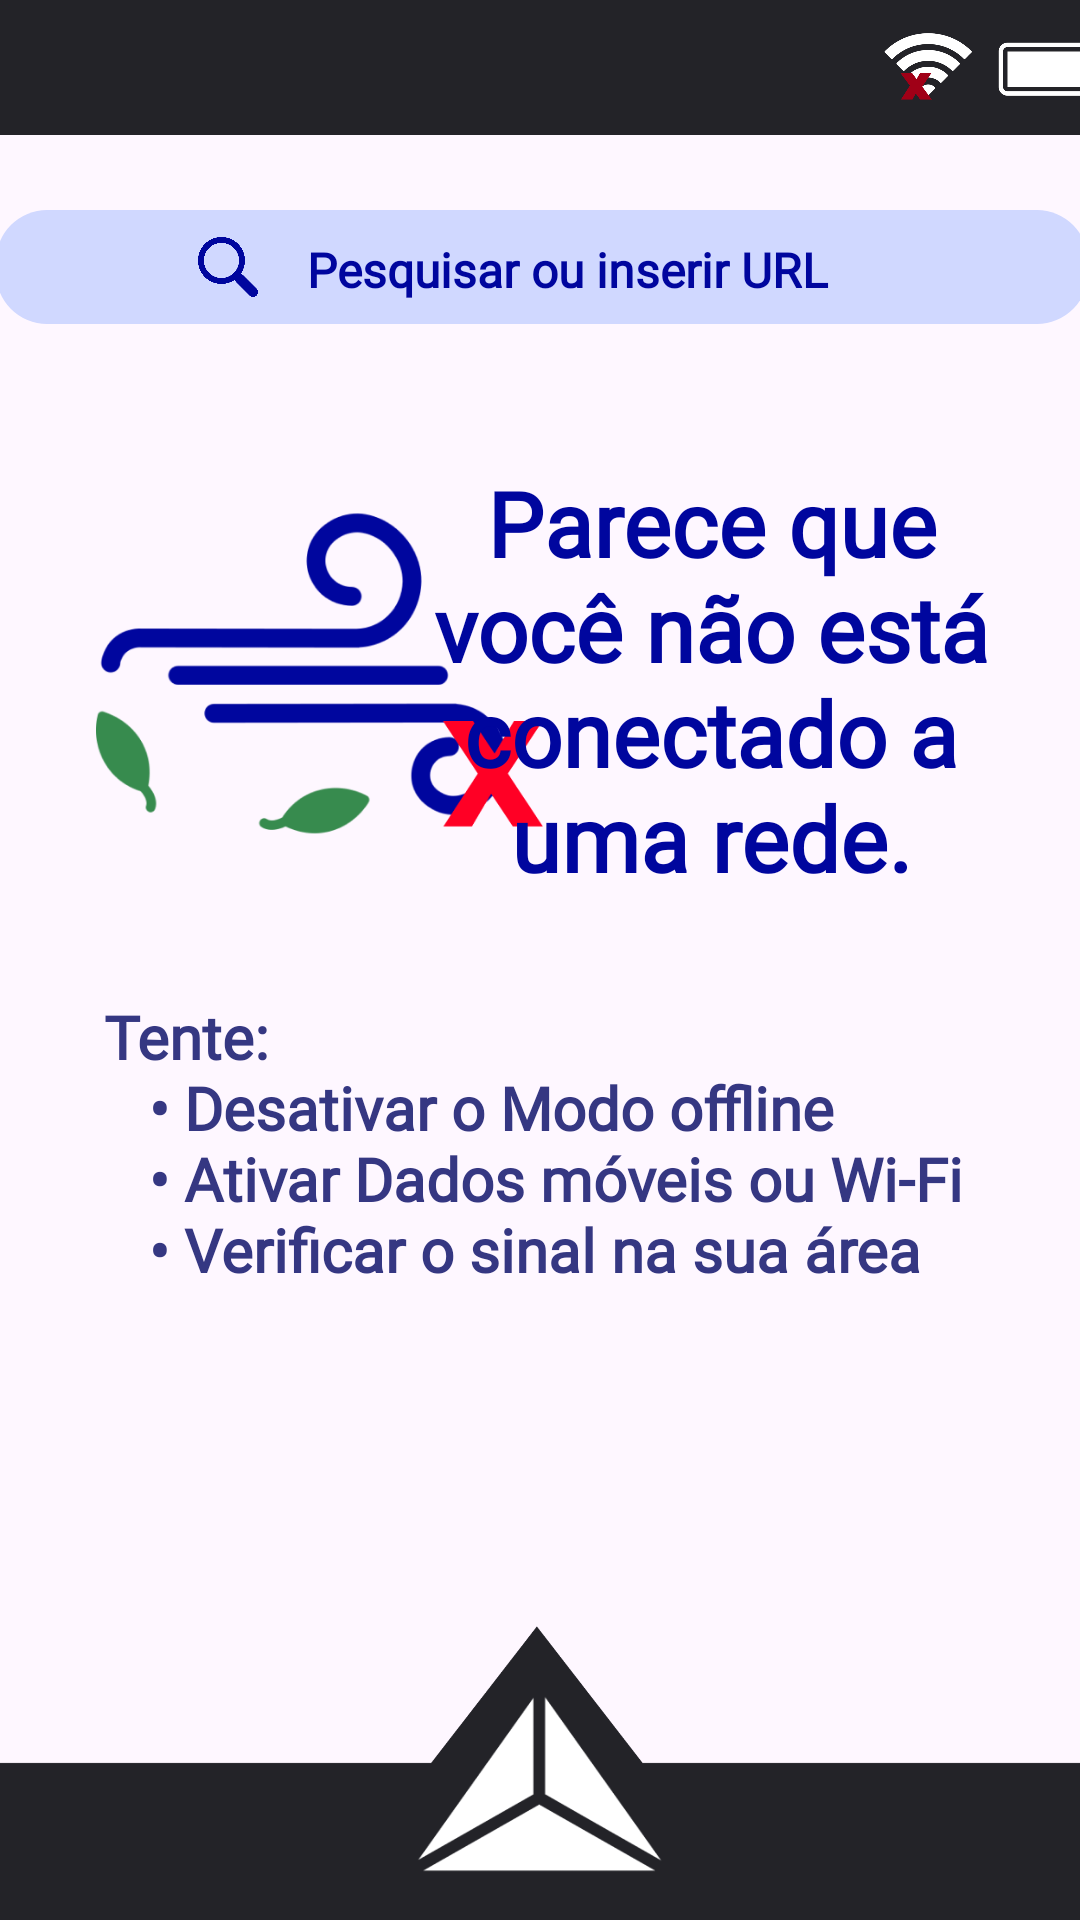

Icons on this 1080px x 1920px Android screen, each with its box as (x1, y1, x2, y2):
iconlupa: (198, 237, 258, 297)
